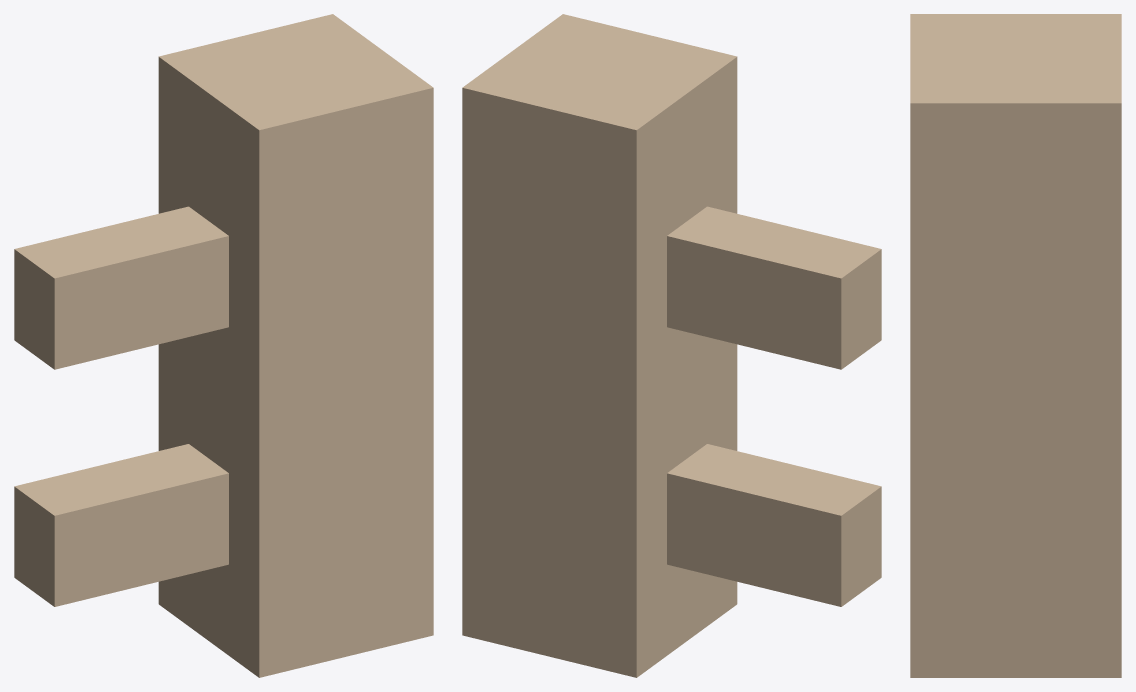
File: FenceEndMesh.gltf
The picture shows the model from 3 angles, left to right: view 1: azimuth 30°, elevation 25°; view 2: azimuth 150°, elevation 25°; view 3: azimuth 270°, elevation 25°; orthographic projection. The views are drawn at different scales.
Parts seen in each view (by area): view 1: FenceEnd; view 2: FenceEnd; view 3: FenceEnd.
Boxes of the visible parts, x1,y1,x2,y2 form: FenceEnd: (14,14,433,677); FenceEnd: (462,14,881,677); FenceEnd: (910,14,1121,677).
Size of the model in its own units: 2 by 3 by 1.
